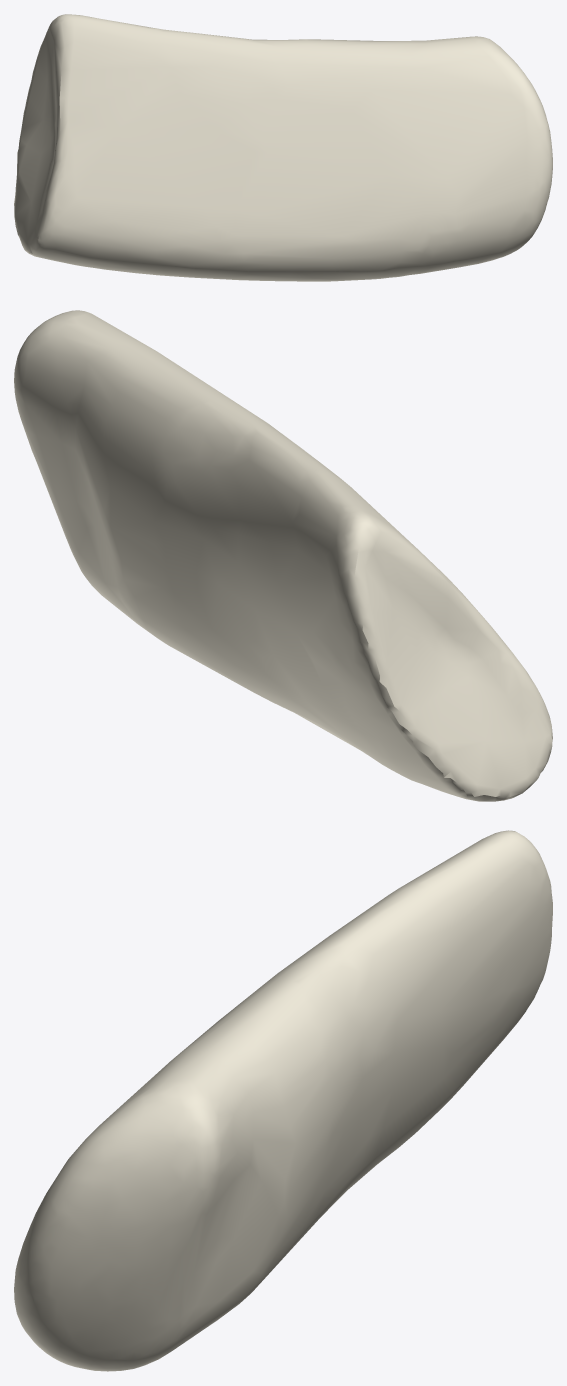
Rendered from fma7886.glb.
3 renders of one model, top to bottom at view 1: azimuth 30°, elevation 25°; view 2: azimuth 150°, elevation 25°; view 3: azimuth 270°, elevation 25°, orthographic. The views are drawn at different scales.
Parts seen in each view (by area): view 1: FMA7886; view 2: FMA7886; view 3: FMA7886.
Boxes of the visible parts, left/top/right/bottom form: FMA7886: left=14, top=14, right=552, bottom=281; FMA7886: left=14, top=310, right=552, bottom=801; FMA7886: left=14, top=830, right=552, bottom=1371.
Size of the model in its own units: 0.0324 by 0.0163 by 0.0237.
